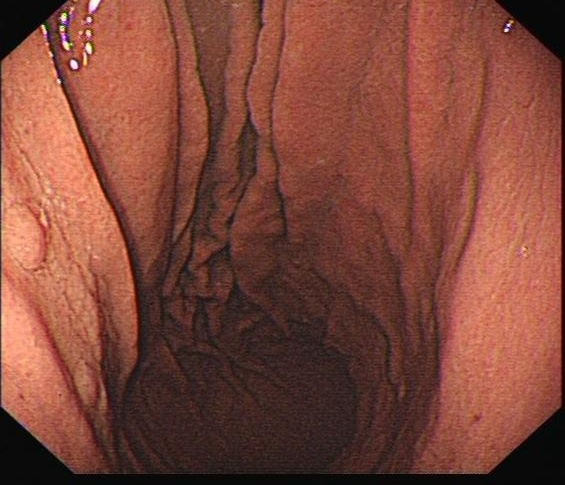Polyp: (4, 201, 60, 276)
